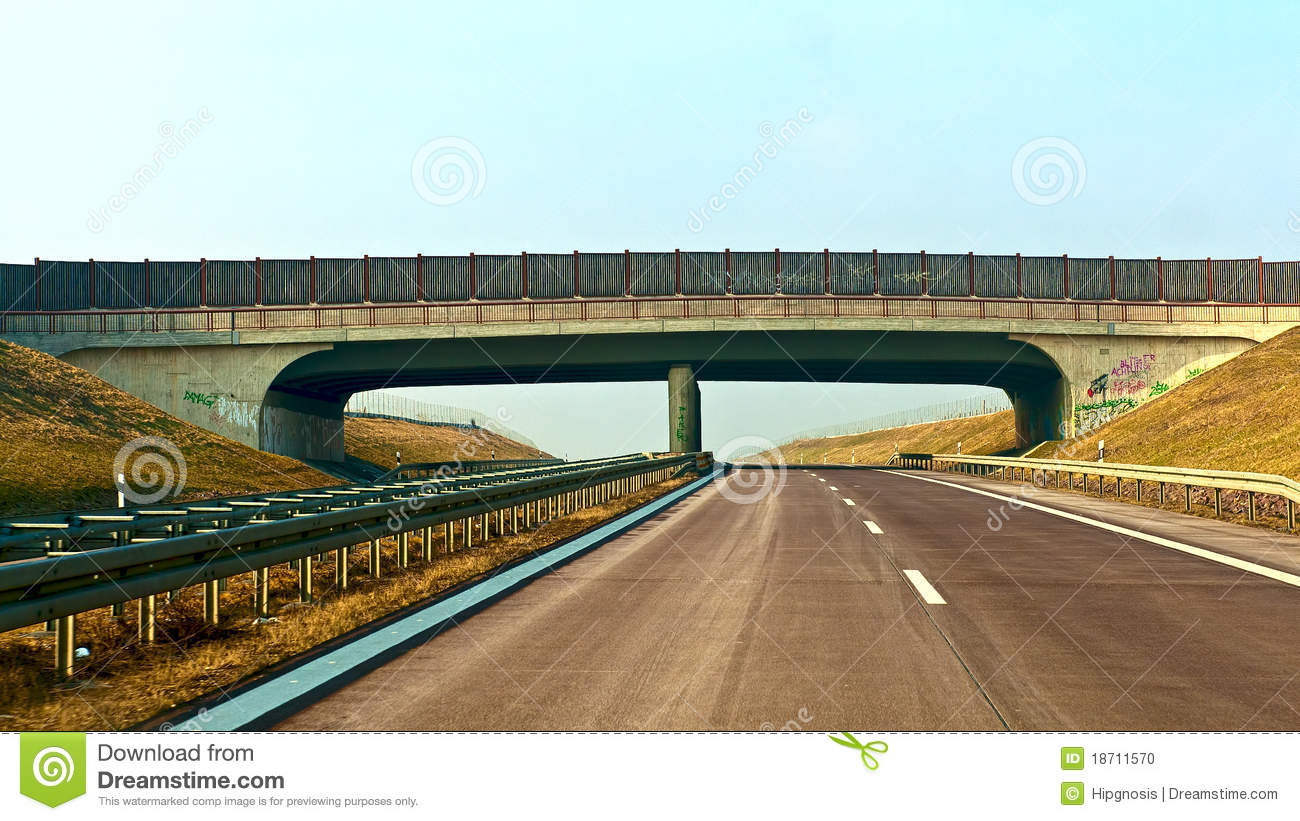bridge: (3, 249, 1296, 407)
